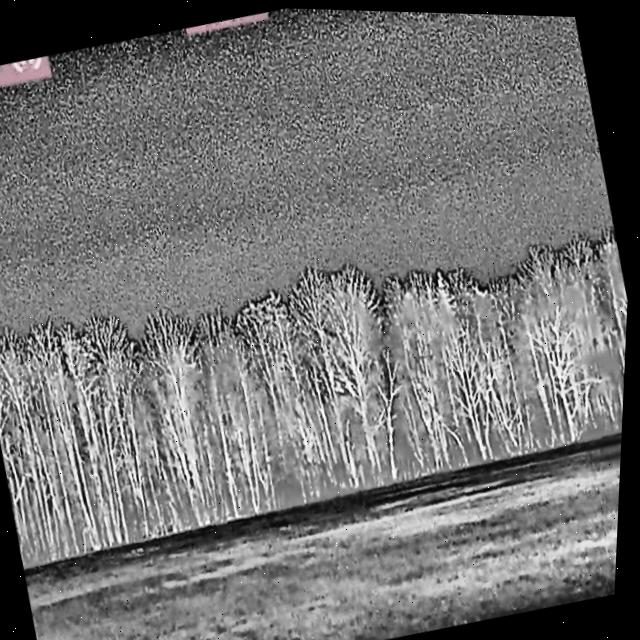drone: (332, 372, 353, 395)
